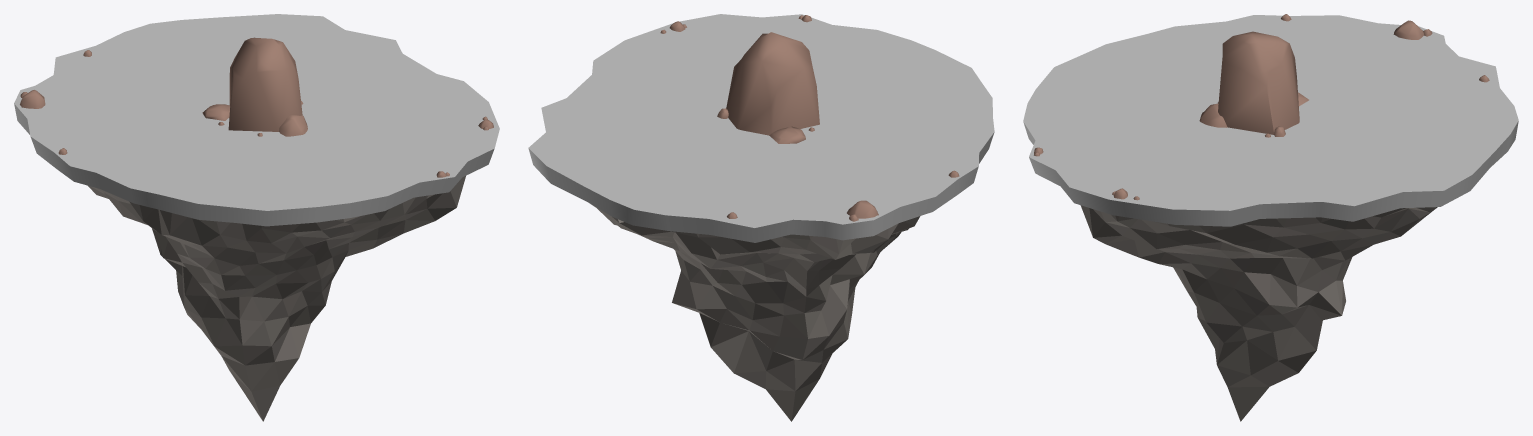
Rendered from Asteroid_Small_3.fbx.
3 renders of one model, left to right at view 1: azimuth 30°, elevation 25°; view 2: azimuth 150°, elevation 25°; view 3: azimuth 270°, elevation 25°, orthographic. The views are drawn at different scales.
Visible parts, largest first — view 1: Cube_78; view 2: Cube_78; view 3: Cube_78.
Part boxes in pixels (left/top/right/bottom): Cube_78: left=14, top=14, right=499, bottom=421; Cube_78: left=528, top=14, right=994, bottom=421; Cube_78: left=1023, top=14, right=1518, bottom=421.
Size of the model in its own units: 53.55 by 50.27 by 57.23.
